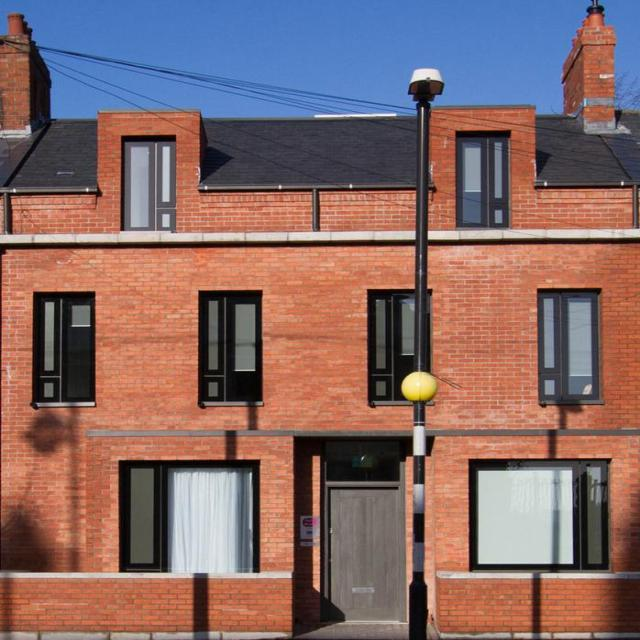door: (323, 481, 407, 623)
window: (470, 455, 609, 570), (121, 460, 260, 575), (366, 288, 429, 405), (537, 288, 600, 404), (198, 287, 261, 403), (33, 291, 95, 407), (456, 132, 509, 229), (123, 140, 173, 231)
